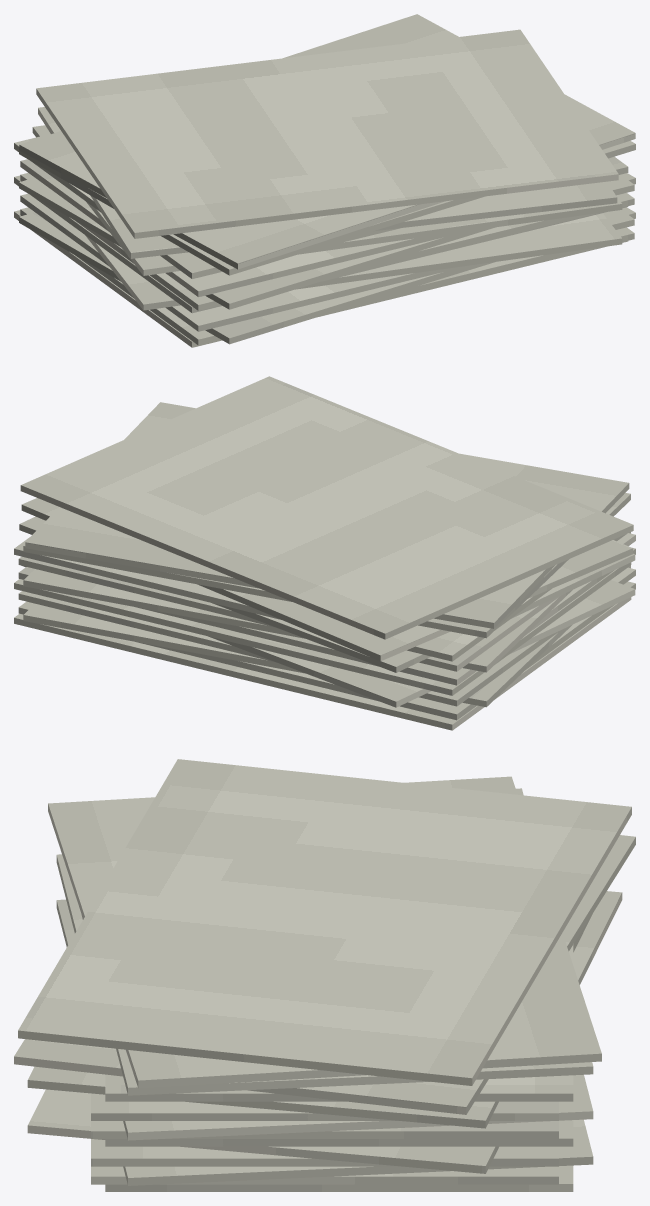
Rendered from Paper4.fbx.
3 renders of one model, top to bottom at view 1: azimuth 30°, elevation 25°; view 2: azimuth 150°, elevation 25°; view 3: azimuth 270°, elevation 25°, orthographic. The views are drawn at different scales.
Parts seen in each view (by area): view 1: paper4; view 2: paper4; view 3: paper4.
Part boxes in pixels (box(x1,y1,x2,y2)): paper4: box(14, 14, 635, 347); paper4: box(14, 376, 635, 730); paper4: box(14, 759, 635, 1191).
Bounding box in the file's own units: 230 × 44.75 × 188.
1 material, 1 textured.
